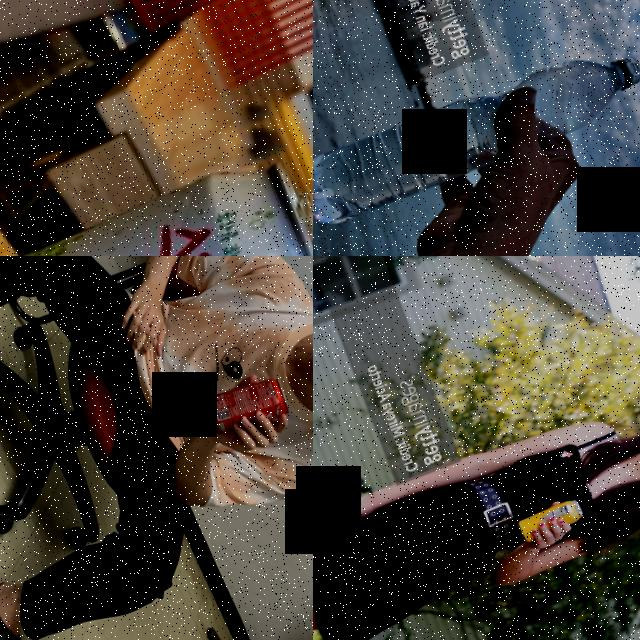bottle: (313, 36, 640, 235)
can: (0, 146, 313, 256), (199, 369, 293, 444), (512, 496, 588, 545)
